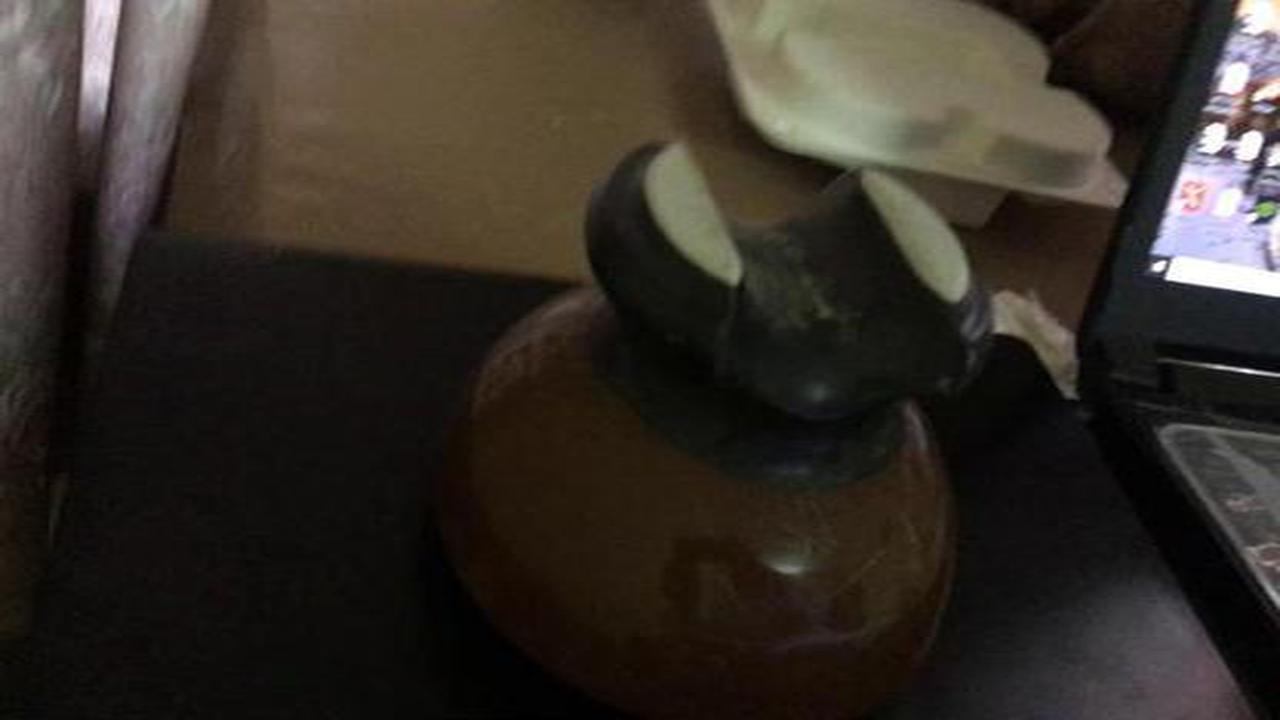insulator_pin: (404, 127, 1028, 714)
